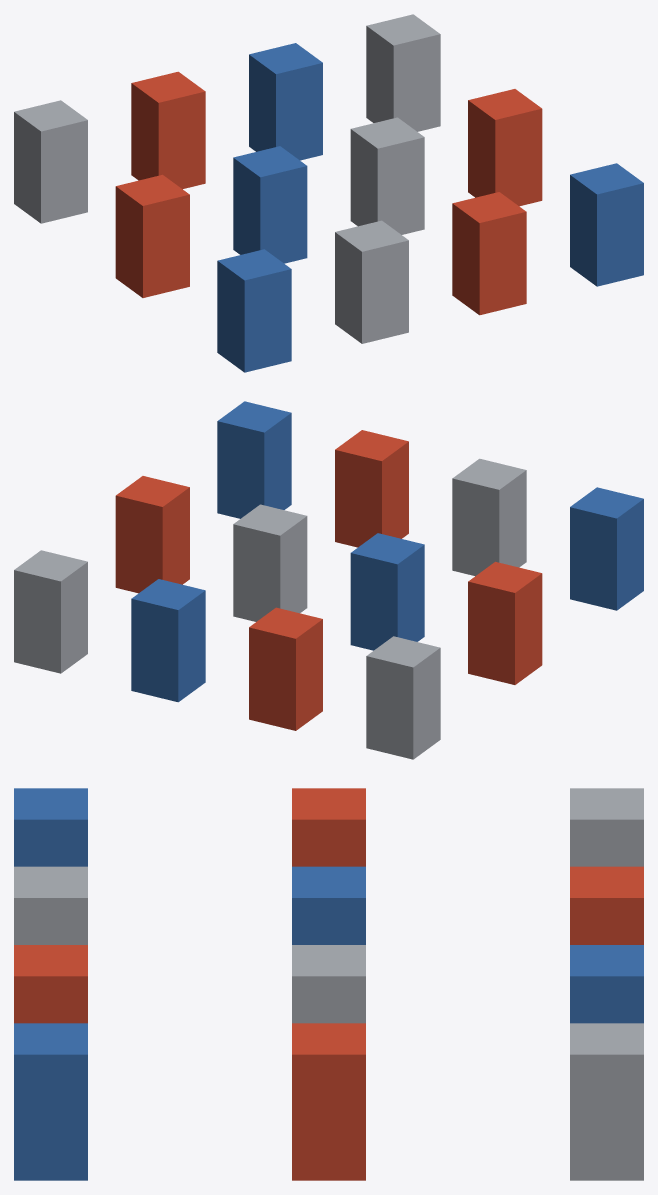
The model's file is B-rack-focus.glb.
3 views of the same model, one above another, from view 1: azimuth 30°, elevation 25°; view 2: azimuth 150°, elevation 25°; view 3: azimuth 270°, elevation 25° (orthographic). The views are drawn at different scales.
Visible parts, largest first — view 1: box-9, box-11, box-5, box-1, box-12, box-10, box-2, box-4, box-6, box-7, box-8, box-3; view 2: box-1, box-3, box-5, box-4, box-9, box-2, box-10, box-12, box-6, box-7, box-8, box-11; view 3: box-4, box-8, box-12, box-1, box-2, box-3, box-5, box-6, box-7, box-9, box-10, box-11.
Part boxes in pixels (x1,y1,x2,y2): box-9: [217, 249, 291, 372]; box-11: [452, 192, 526, 315]; box-5: [115, 174, 189, 297]; box-1: [14, 100, 87, 223]; box-12: [570, 163, 643, 286]; box-10: [335, 220, 408, 343]; box-2: [131, 71, 205, 189]; box-4: [366, 14, 440, 131]; box-6: [233, 146, 307, 263]; box-7: [350, 117, 424, 234]; box-8: [468, 89, 542, 206]; box-3: [249, 43, 322, 160]; box-1: [366, 636, 440, 759]; box-3: [131, 579, 205, 702]; box-5: [468, 561, 542, 684]; box-4: [14, 550, 87, 673]; box-9: [570, 487, 643, 610]; box-2: [249, 607, 322, 730]; box-10: [452, 458, 526, 576]; box-12: [217, 401, 291, 518]; box-6: [350, 533, 424, 650]; box-7: [233, 504, 307, 621]; box-8: [115, 476, 189, 593]; box-11: [335, 430, 408, 547]; box-4: [570, 1023, 643, 1180]; box-8: [292, 1023, 365, 1180]; box-12: [14, 1023, 87, 1180]; box-1: [570, 788, 643, 866]; box-2: [570, 866, 643, 944]; box-3: [570, 945, 643, 1023]; box-5: [292, 788, 365, 866]; box-6: [292, 866, 365, 944]; box-7: [292, 945, 365, 1023]; box-9: [14, 788, 87, 866]; box-10: [14, 866, 87, 944]; box-11: [14, 945, 87, 1023].
Size of what is drawn, in the model's own units: 6.8 by 1.5 by 6.8.
